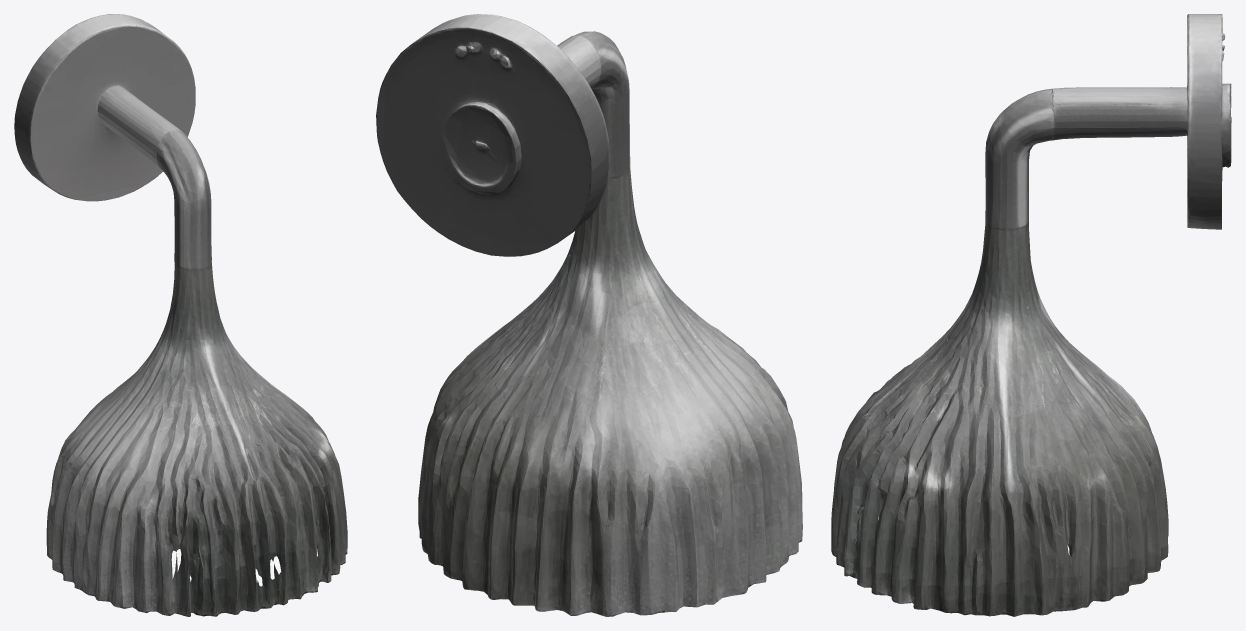
File: 8c8117c3-5ff6-413c-bfeb-b6696e464c7c.glb
The picture shows the model from 3 angles, left to right: view 1: azimuth 30°, elevation 25°; view 2: azimuth 150°, elevation 25°; view 3: azimuth 270°, elevation 25°; orthographic projection. The views are drawn at different scales.
Visible parts, largest first — view 1: world; view 2: world; view 3: world.
Part boxes in pixels (x1,y1,x2,y2): world: (14, 14, 347, 616); world: (376, 14, 802, 616); world: (831, 14, 1231, 616).
Bounding box in the file's own units: 0.5745 × 1 × 0.6931.
Materials: 1 (1 with a texture image).
